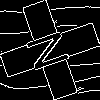N: (25, 25, 80, 74)
